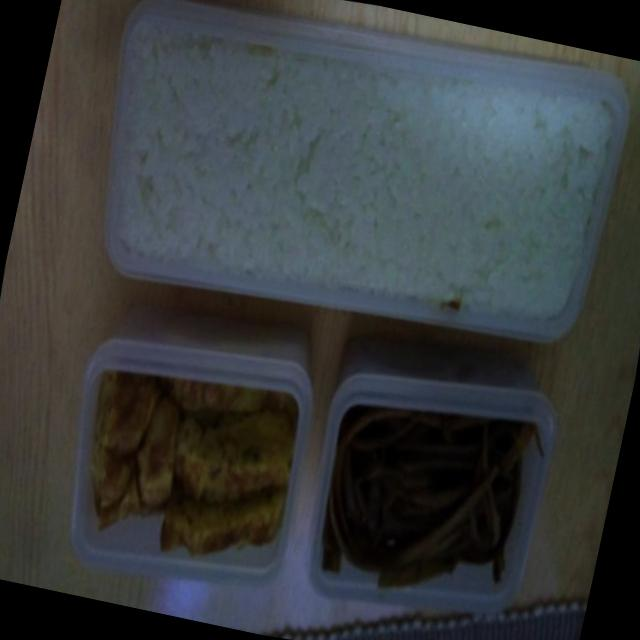Rice: (77, 0, 631, 353)
